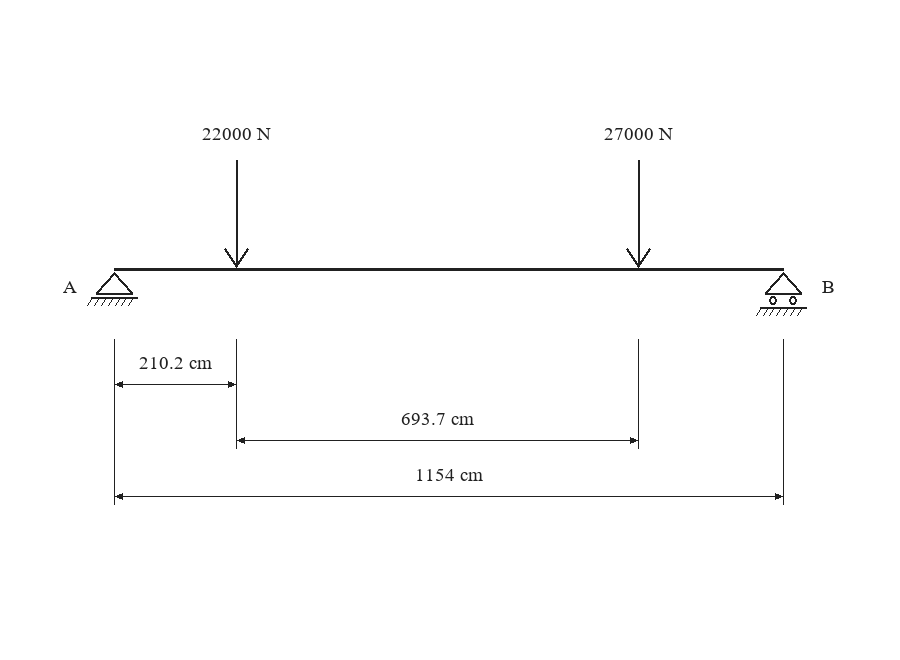pin_support: (87, 272, 138, 306)
point_load: (224, 160, 249, 268), (626, 160, 651, 268)
roller_support: (756, 272, 807, 316)
